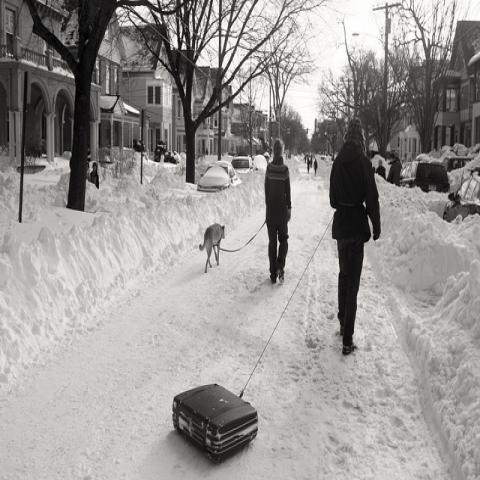car: (442, 174, 479, 225), (197, 161, 239, 193), (415, 162, 450, 193), (231, 157, 252, 174)
